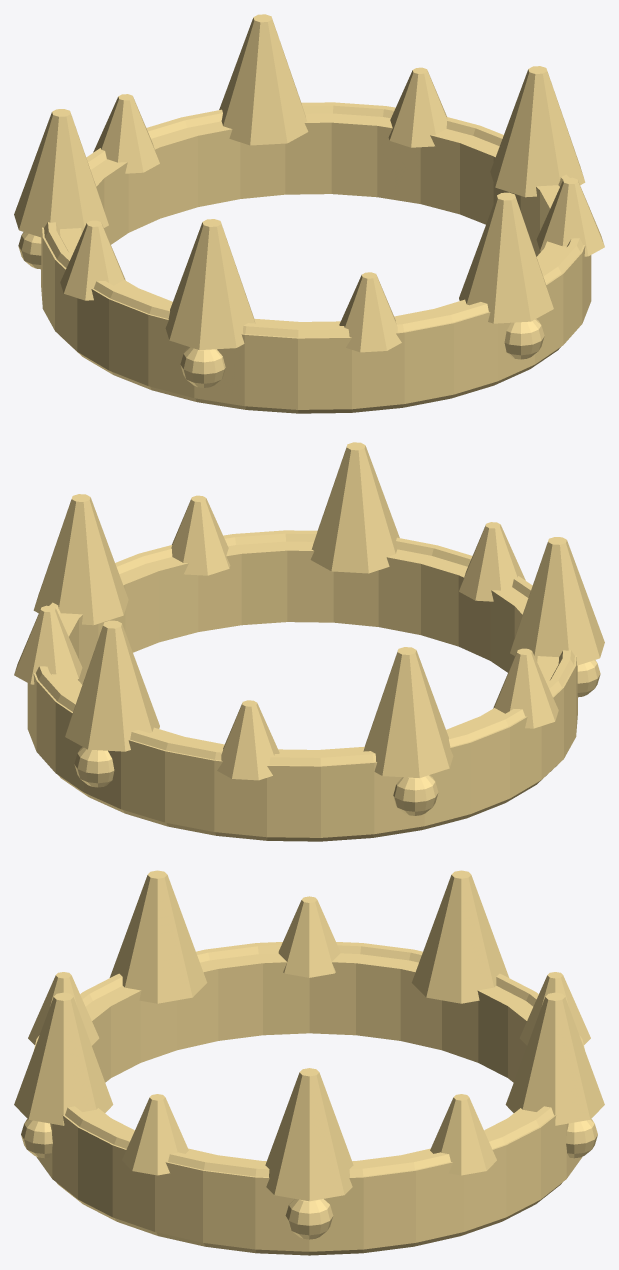
File: crown.fbx
The picture shows the model from 3 angles, top to bottom: view 1: azimuth 30°, elevation 25°; view 2: azimuth 150°, elevation 25°; view 3: azimuth 270°, elevation 25°; orthographic projection.
Parts seen in each view (by area): view 1: crown; view 2: crown; view 3: crown.
Boxes of the visible parts, bbox=[...] form: crown: bbox=[14, 14, 604, 413]; crown: bbox=[14, 442, 604, 841]; crown: bbox=[14, 870, 604, 1255].
Bounding box in the file's own units: 0.303 × 0.0985 × 0.2973.
